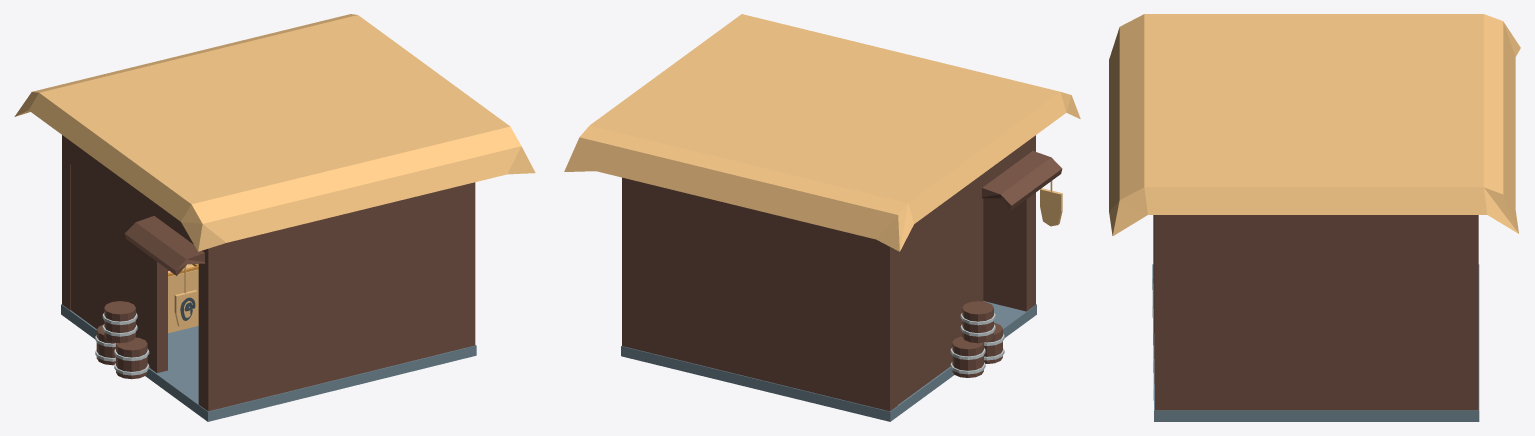
File: Shop.glb
3 renders of one model, left to right at view 1: azimuth 30°, elevation 25°; view 2: azimuth 150°, elevation 25°; view 3: azimuth 270°, elevation 25°, orthographic. The views are drawn at different scales.
Parts seen in each view (by area): view 1: Node; view 2: Node; view 3: Node.
Boxes of the visible parts, x1,y1,x2,y2 form: Node: (14, 14, 535, 421); Node: (564, 14, 1080, 421); Node: (1109, 14, 1520, 421).
Size of the model in its own units: 2.47 by 1.56 by 2.33.
